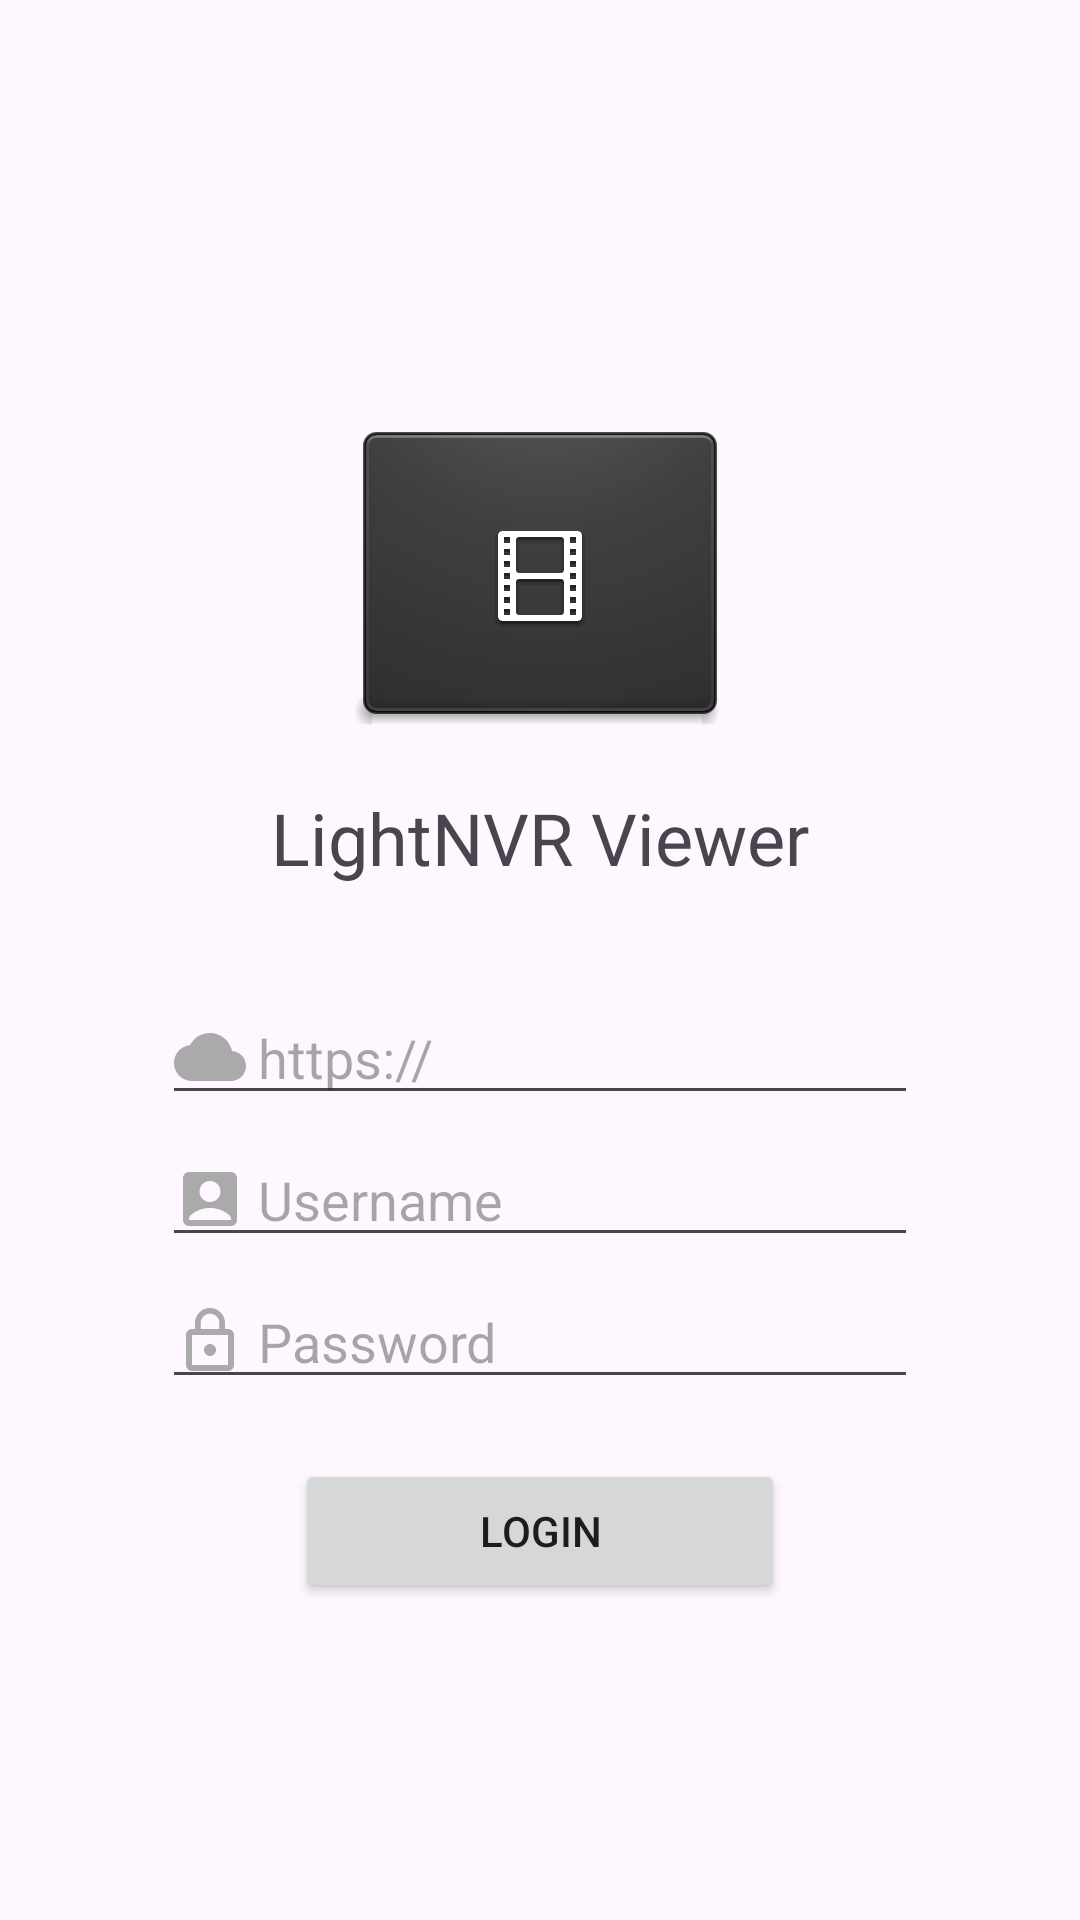

Icon click points for this 1080×1920 phone screenshot, format (x=x, y=y):
video generic: (x=538, y=578)
